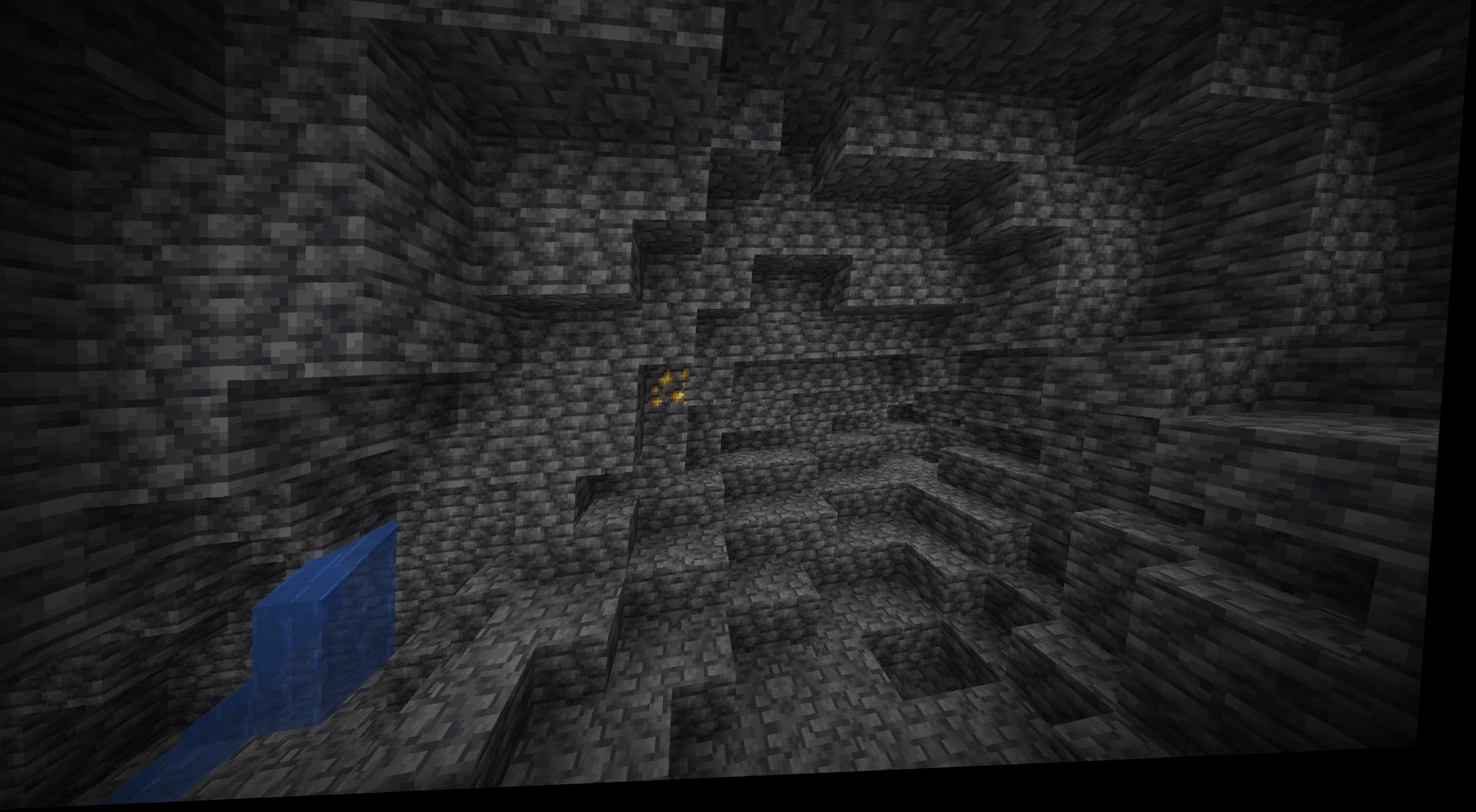gold ore: (656, 369, 697, 414)
